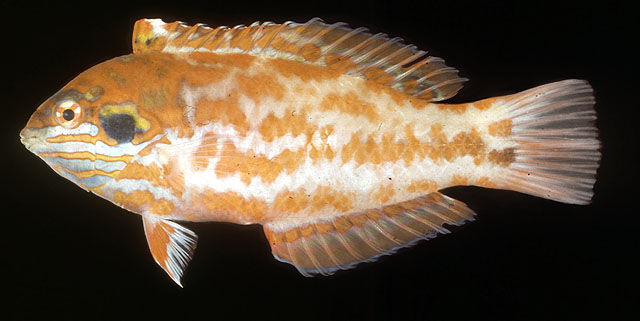fish: (18, 18, 603, 288)
